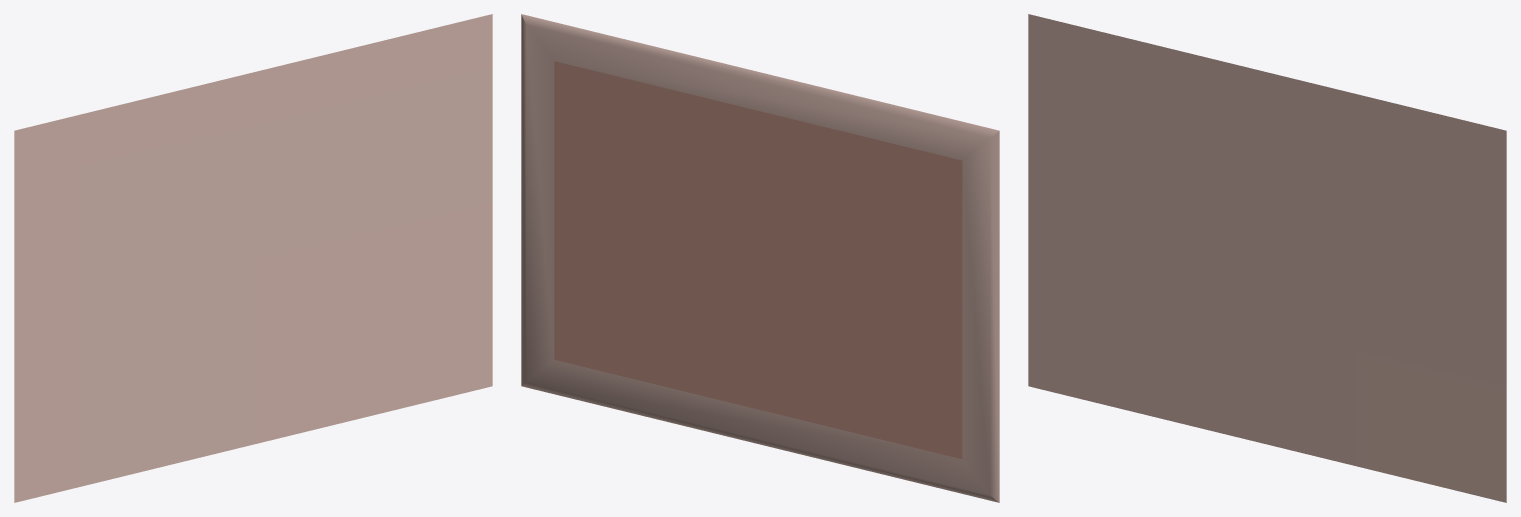
The model's file is rug-b.glb.
The picture shows the model from 3 angles, left to right: view 1: azimuth 30°, elevation 25°; view 2: azimuth 150°, elevation 25°; view 3: azimuth 330°, elevation 25°; orthographic projection.
Visible parts, largest first — view 1: carpet_007; view 2: carpet_007; view 3: carpet_007.
Part boxes in pixels (left/top/right/bottom): carpet_007: left=14, top=14, right=492, bottom=502; carpet_007: left=521, top=14, right=999, bottom=502; carpet_007: left=1028, top=14, right=1506, bottom=502.
Size of the model in its own units: 2.13 by 1.58 by 0.0177.
1 material, 1 textured.
